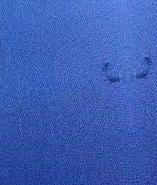knot: (103, 59, 123, 85), (134, 56, 152, 81)
